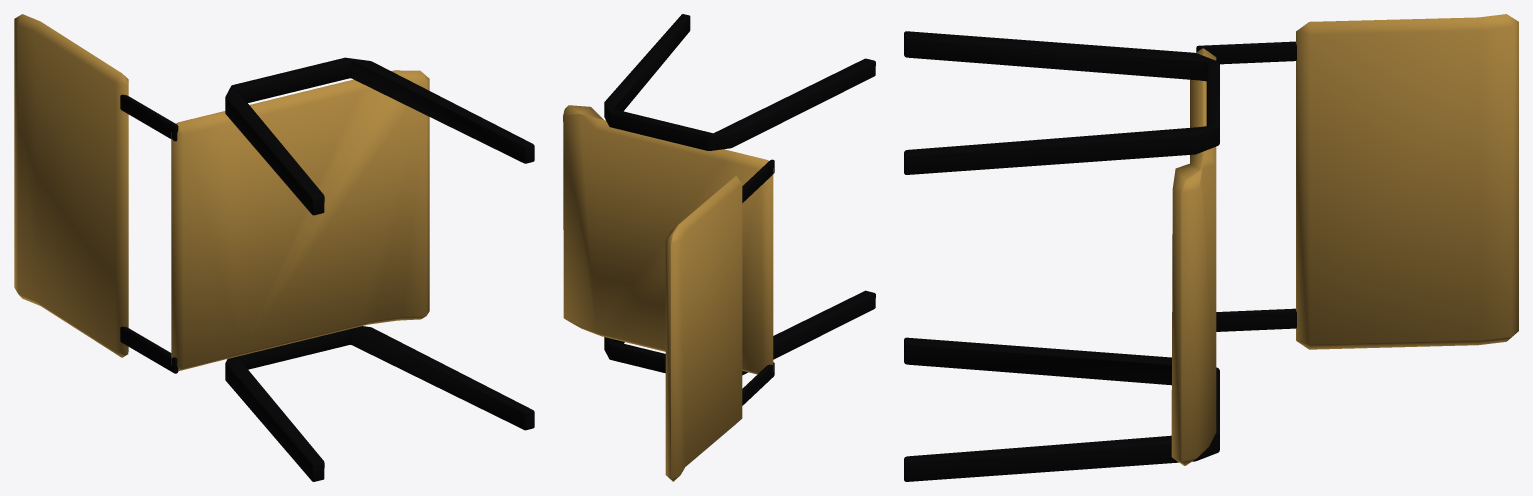
3 renders of one model, left to right at view 1: azimuth 30°, elevation 25°; view 2: azimuth 150°, elevation 25°; view 3: azimuth 270°, elevation 25°, orthographic. The views are drawn at different scales.
Parts seen in each view (by area): view 1: Cube; view 2: Cube; view 3: Cube.
Part boxes in pixels (x1=…): Cube: x1=14, y1=14, x2=534, y2=481; Cube: x1=563, y1=14, x2=875, y2=481; Cube: x1=904, y1=14, x2=1518, y2=481.
Bounding box in the file's own units: 60 × 60 × 102.
